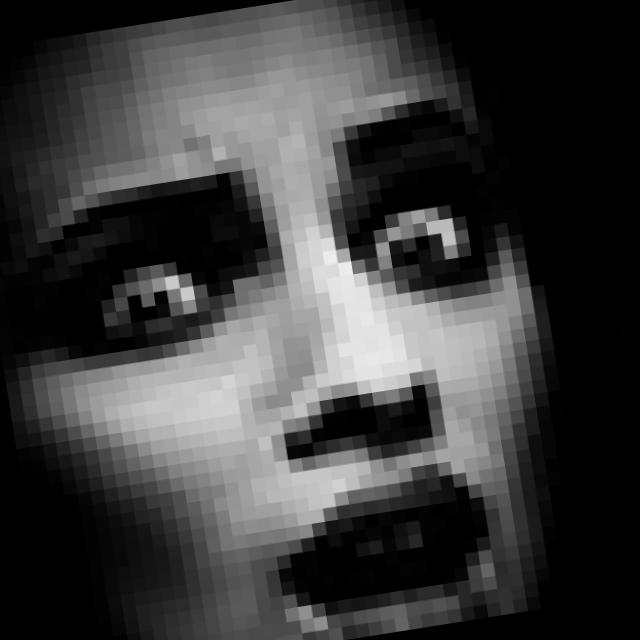fear: (0, 89, 555, 640)
